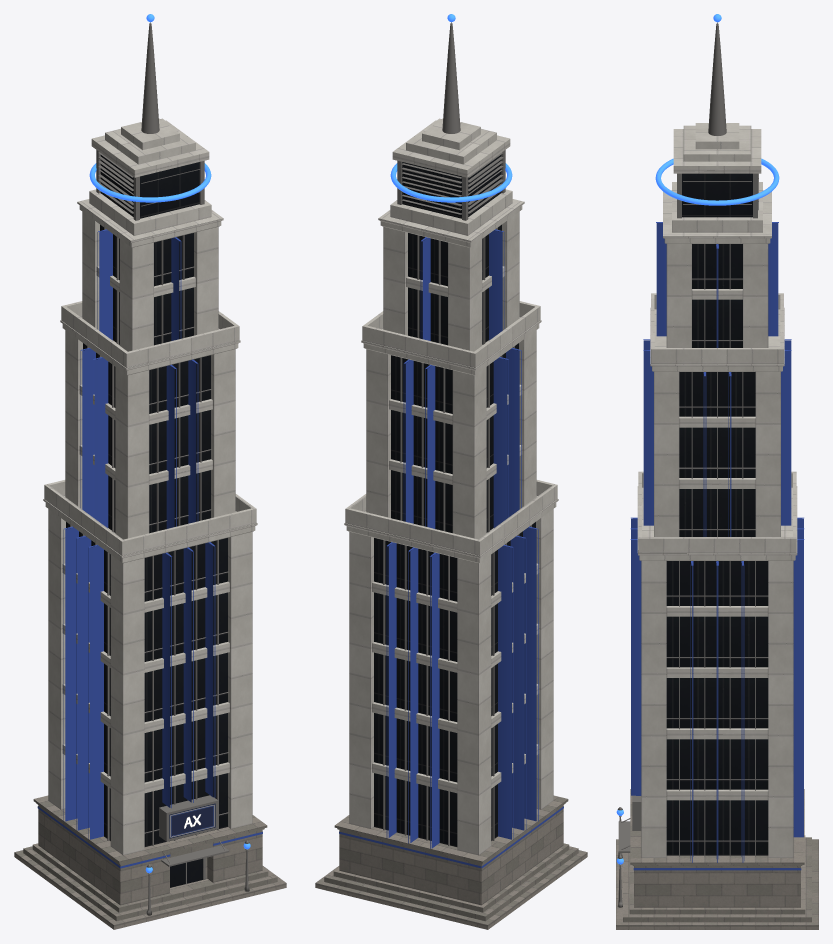
Rendered from s14-askdoc-x.glb.
3 renders of one model, left to right at view 1: azimuth 30°, elevation 25°; view 2: azimuth 150°, elevation 25°; view 3: azimuth 270°, elevation 25°, orthographic.
Visible parts, largest first — view 1: Landmark · AskDoc.X (Series 14); view 2: Landmark · AskDoc.X (Series 14); view 3: Landmark · AskDoc.X (Series 14).
Part boxes in pixels (<box>): Landmark · AskDoc.X (Series 14): <box>14,14,286,929</box>; Landmark · AskDoc.X (Series 14): <box>315,14,587,929</box>; Landmark · AskDoc.X (Series 14): <box>616,14,818,929</box>.
Size of the model in its own units: 12 by 57 by 12.
7 materials, 4 textured.
